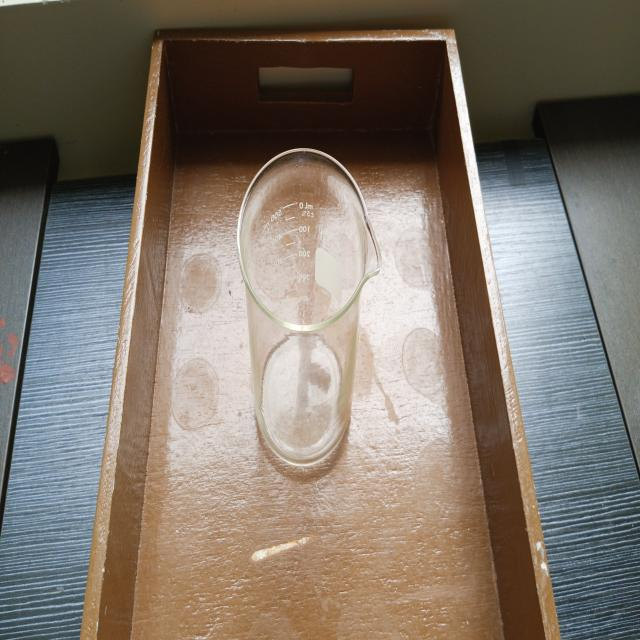beaker: (233, 141, 385, 471)
